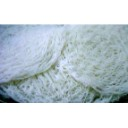idiyappam: (52, 25, 128, 97), (6, 60, 118, 104), (1, 24, 67, 79)
